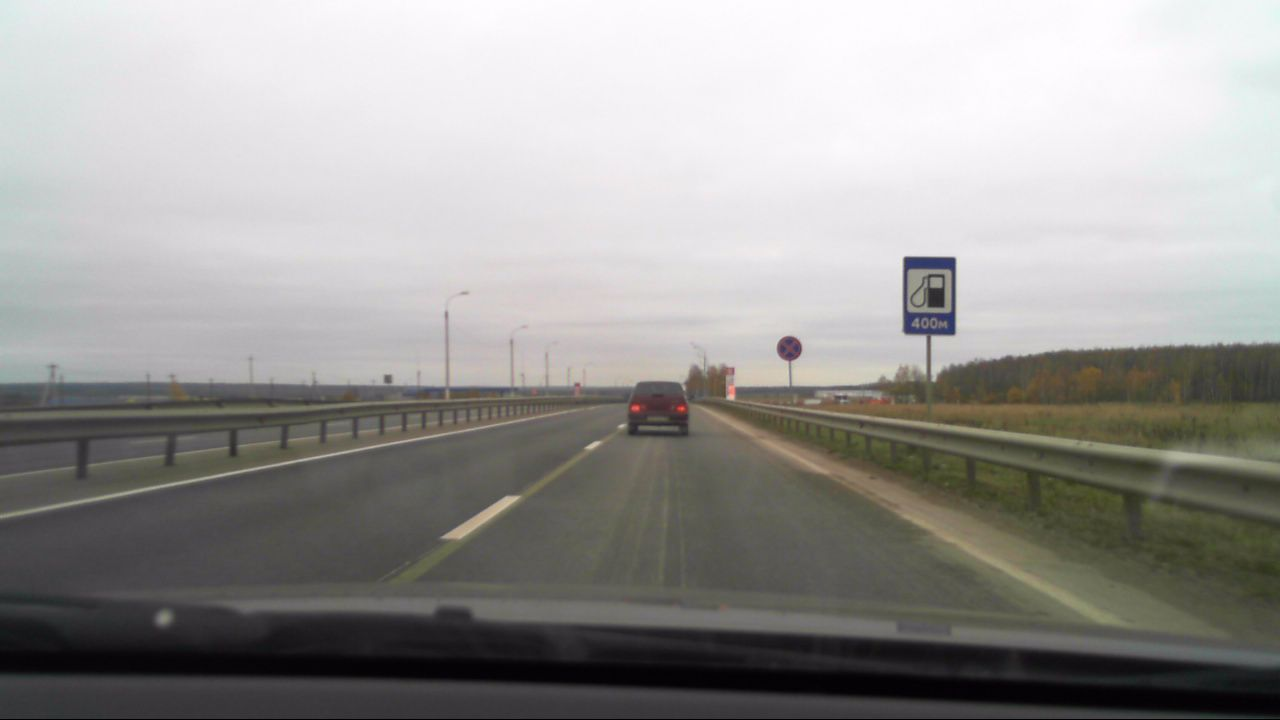No Parking: (774, 332, 803, 365)
